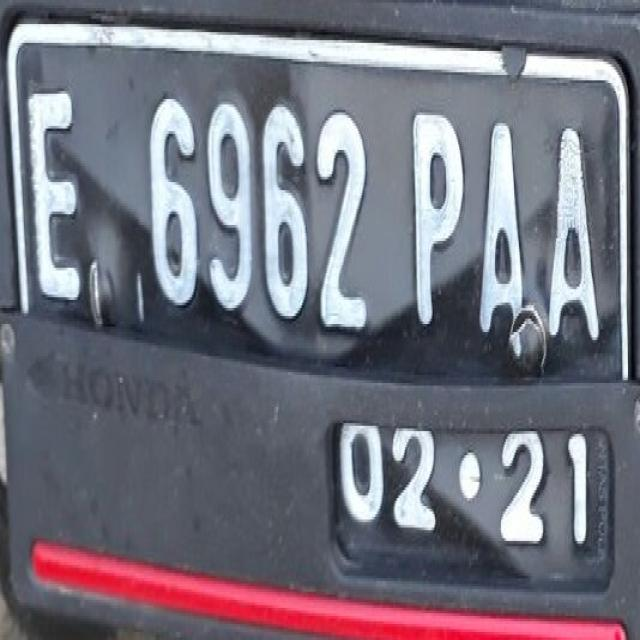plate: (4, 2, 638, 634)
